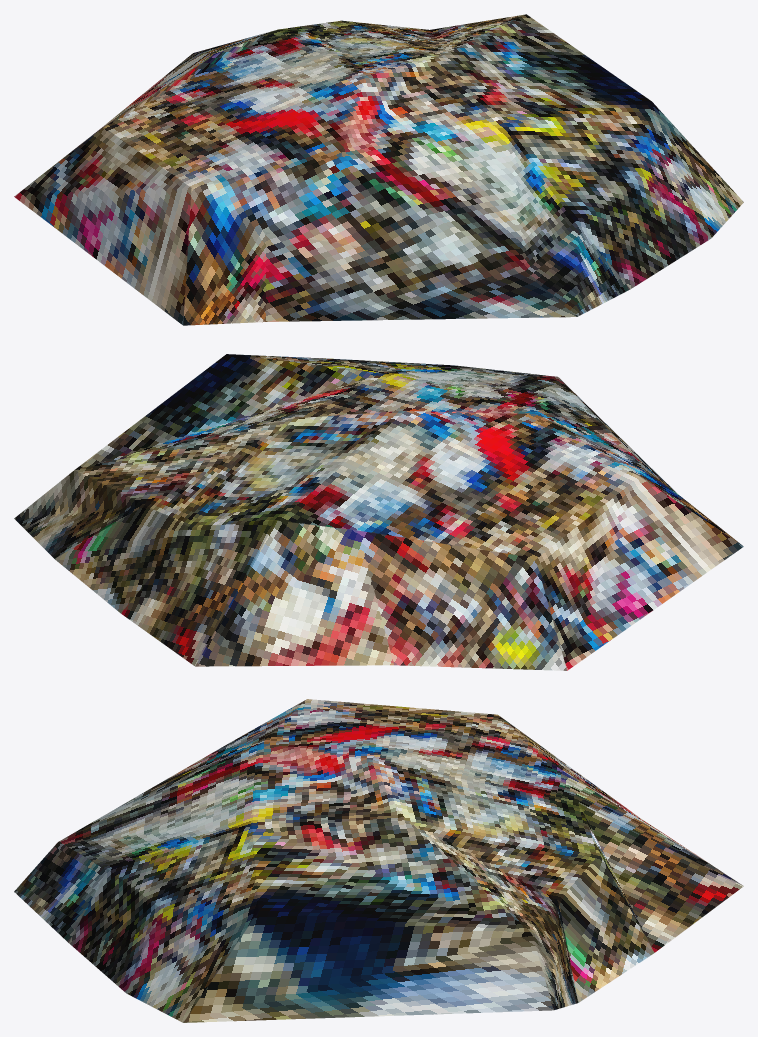
File: trashpile_2.006.glb
The picture shows the model from 3 angles, top to bottom: view 1: azimuth 30°, elevation 25°; view 2: azimuth 150°, elevation 25°; view 3: azimuth 270°, elevation 25°; orthographic projection.
Parts seen in each view (by area): view 1: trashpile_2.006; view 2: trashpile_2.006; view 3: trashpile_2.006.
Boxes of the visible parts, x1,y1,x2,y2 form: trashpile_2.006: (14,14,743,325); trashpile_2.006: (14,354,743,670); trashpile_2.006: (14,699,743,1022).
Bounding box in the file's own units: 0.6608 × 0.1502 × 0.7621.
Materials: 1 (1 with a texture image).
